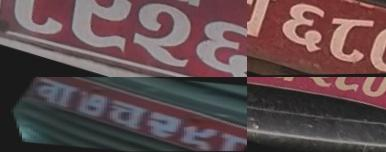0: (358, 17, 386, 74), (355, 77, 386, 103)
2: (117, 0, 204, 75), (119, 109, 194, 140), (299, 77, 342, 95)
6: (266, 0, 336, 63), (181, 11, 247, 77)
7: (50, 88, 125, 120)
8: (313, 4, 381, 74), (0, 0, 79, 43), (189, 132, 247, 151)
9: (55, 0, 142, 58), (154, 124, 230, 151), (328, 77, 369, 102)
ba: (4, 77, 93, 109)
cha: (79, 97, 162, 130), (247, 0, 286, 51), (259, 77, 312, 90), (154, 0, 210, 11)
